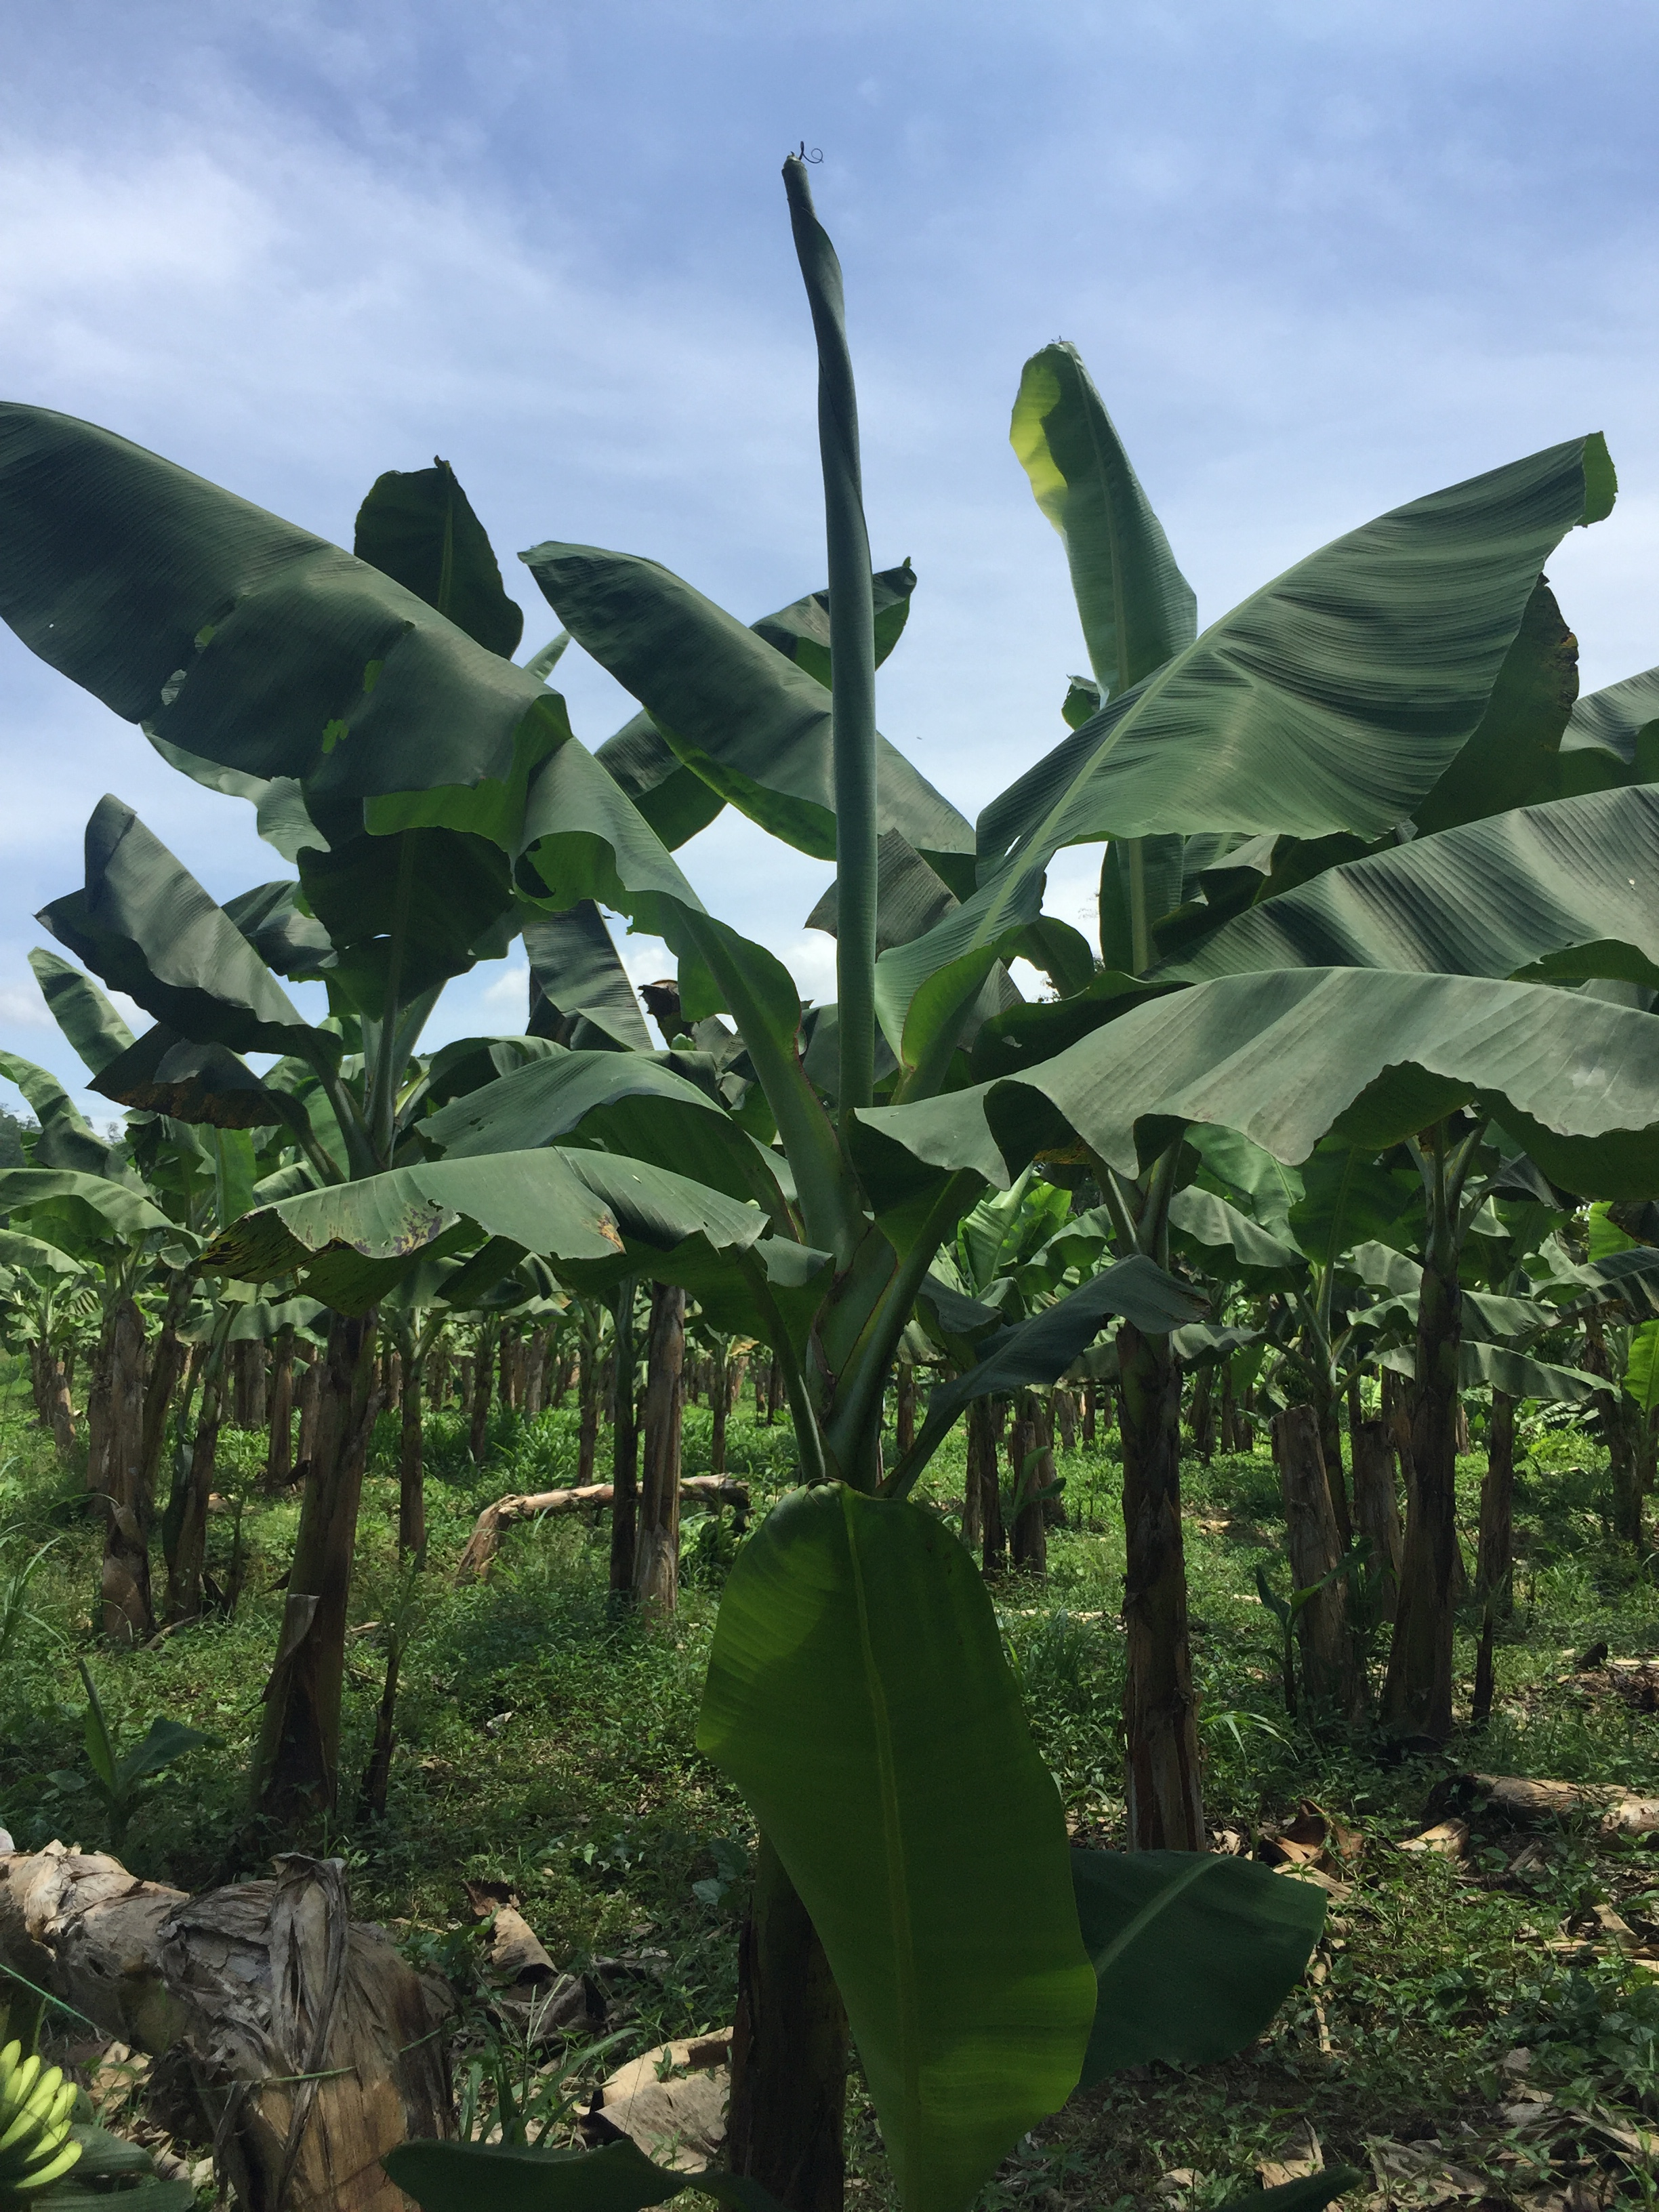candleleafs: (784, 145, 878, 1118)
